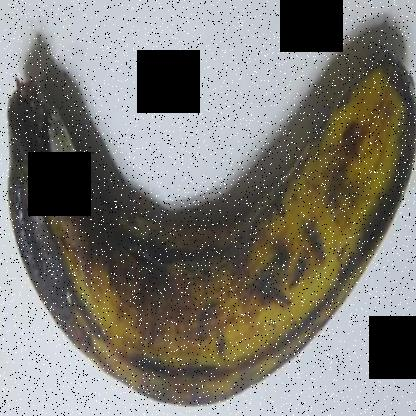overripe: (0, 22, 415, 413)
rotten: (0, 53, 119, 309)
